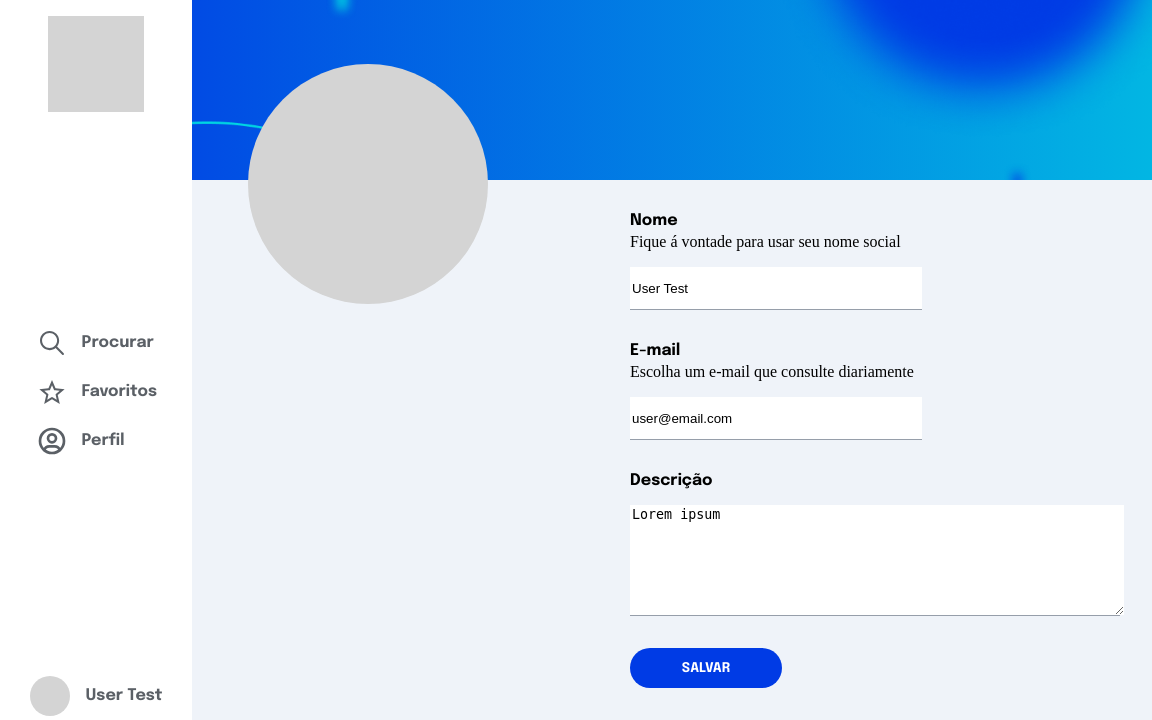
Testando o formulário de edição de perfil › Testando se após salvar as informações a pessoa é redirecionada para a página de exibição de perfil
The width and height of the screenshot is (1152, 720).
What coordinates should you click on to do the following:
click the button with test id "edit-button-save"
I would click on:
 (706, 668)
Its box is x1=630 y1=648 x2=782 y2=688.
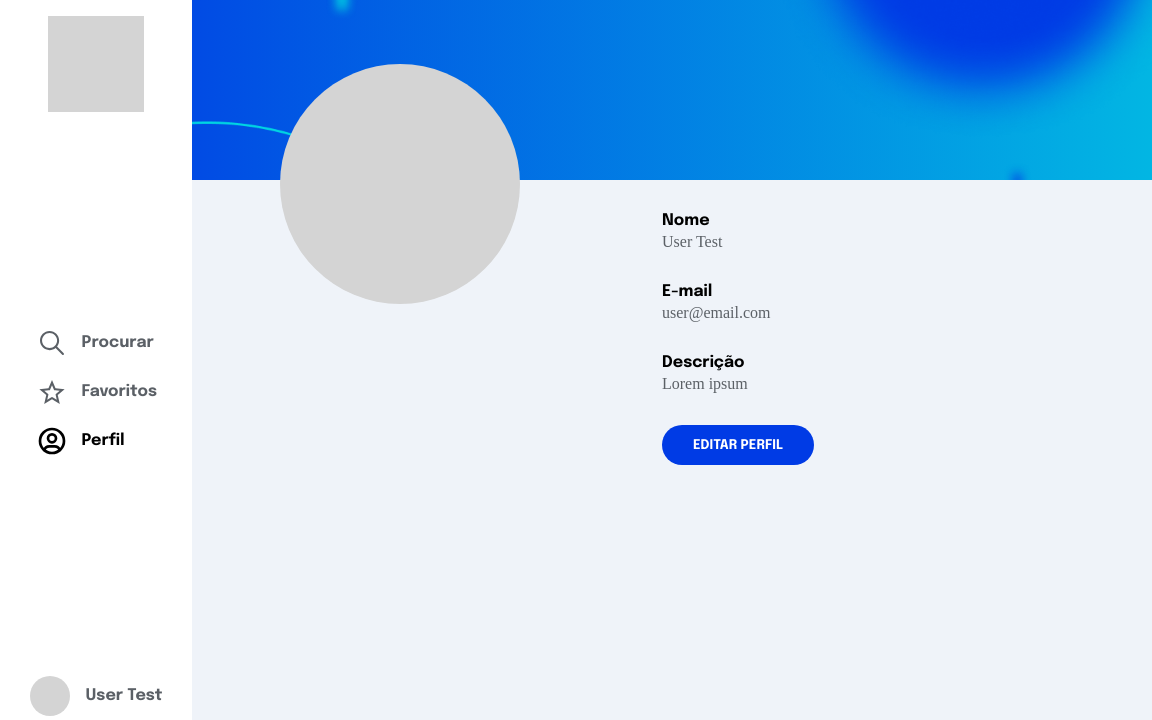
Expected: the button "Editar perfil" is shown, x1=662 y1=425 x2=814 y2=465
Expected: the element with test id "page-profile" is shown
